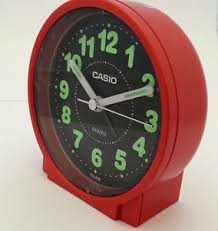alarm_clock: (27, 2, 207, 226), (33, 2, 207, 226)
